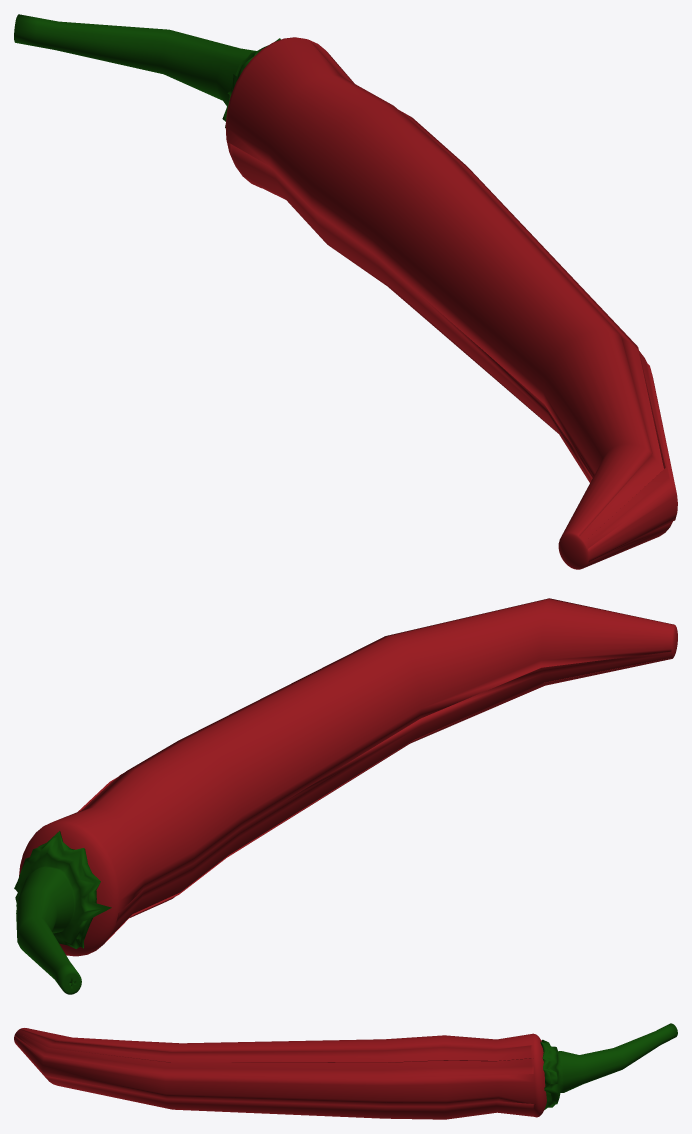
File: LBSR_ChiliPepper.fbx
The picture shows the model from 3 angles, top to bottom: view 1: azimuth 30°, elevation 25°; view 2: azimuth 150°, elevation 25°; view 3: azimuth 270°, elevation 25°; orthographic projection. The views are drawn at different scales.
Parts seen in each view (by area): view 1: red part, stem; view 2: red part, stem; view 3: red part, stem.
Boxes of the visible parts, x1,y1,x2,y2 form: red part: (225,37,677,569); stem: (14,14,280,127); red part: (19,598,677,956); stem: (14,831,111,994); red part: (14,1028,546,1119); stem: (540,1023,677,1109).
Size of the model in its own units: 1.45 by 0.802 by 5.96.
